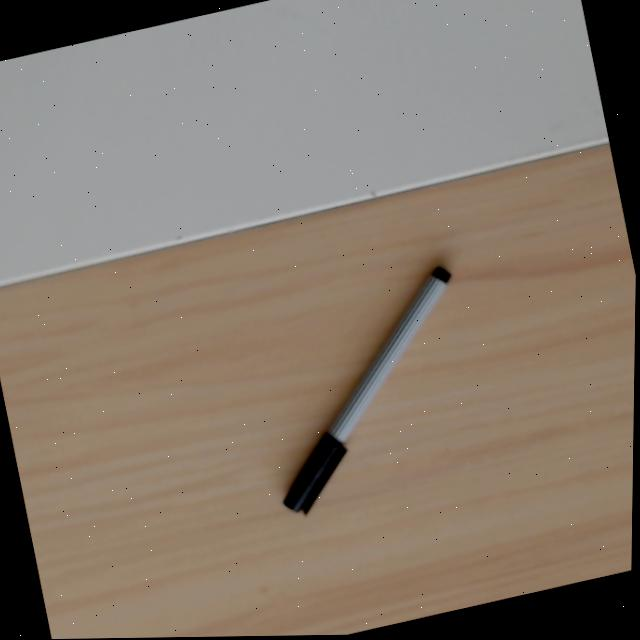Pulpen-Garis-Hitam: (277, 259, 462, 522)
